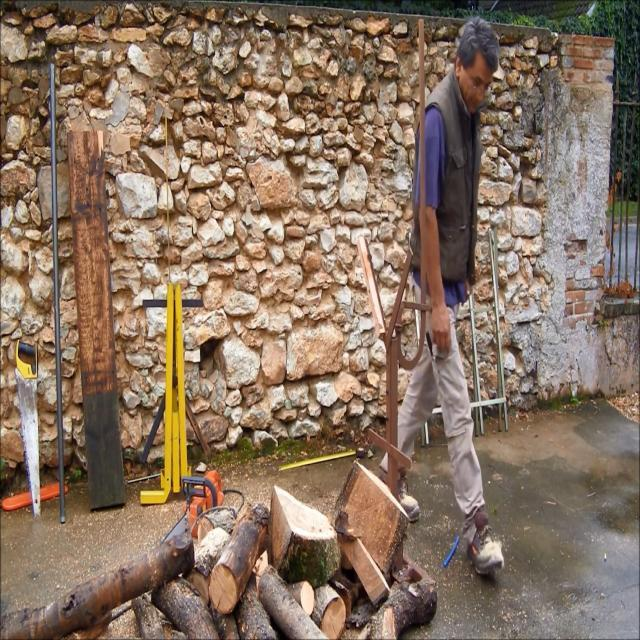Chainsaw: (157, 433, 260, 566)
